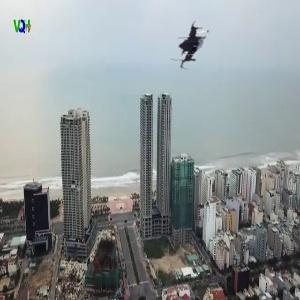drone: (165, 18, 220, 73)
